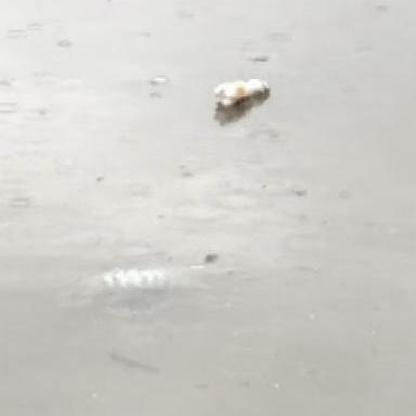plastic bottle: (215, 78, 270, 107)
